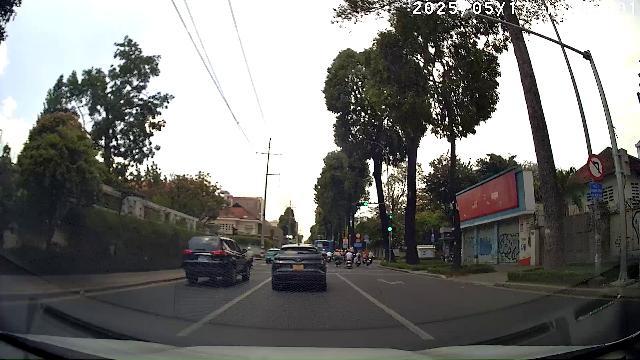123a-cam-re-trai: (587, 154, 605, 182)
